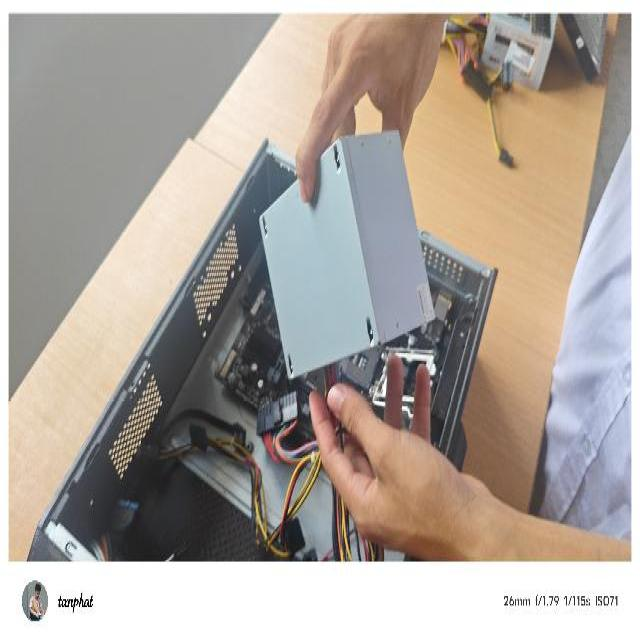PSU: (256, 122, 439, 382)
